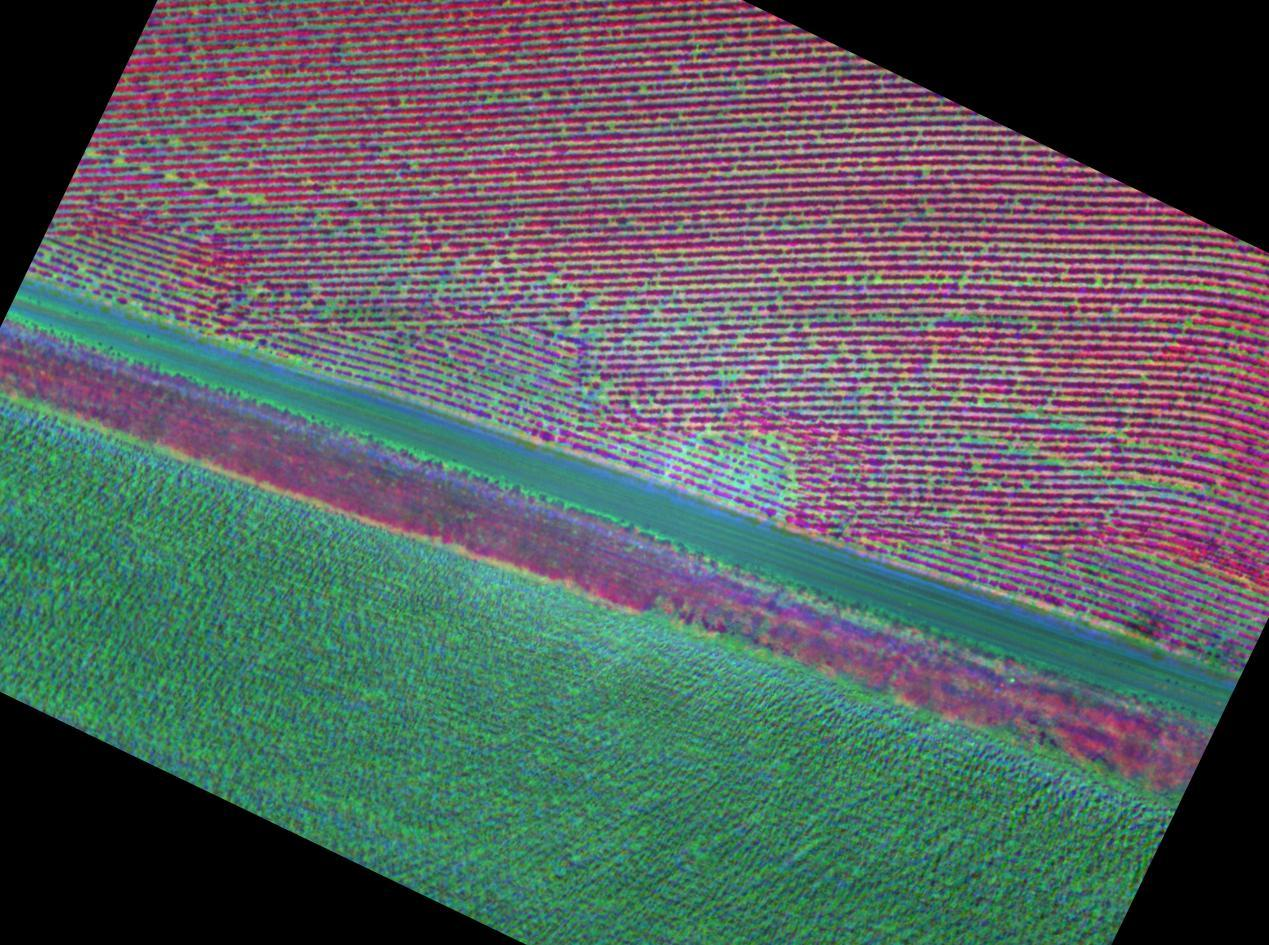dc: (604, 384, 609, 388), (79, 269, 83, 273), (549, 276, 553, 280), (216, 225, 219, 229), (92, 283, 96, 286), (439, 286, 442, 289)
